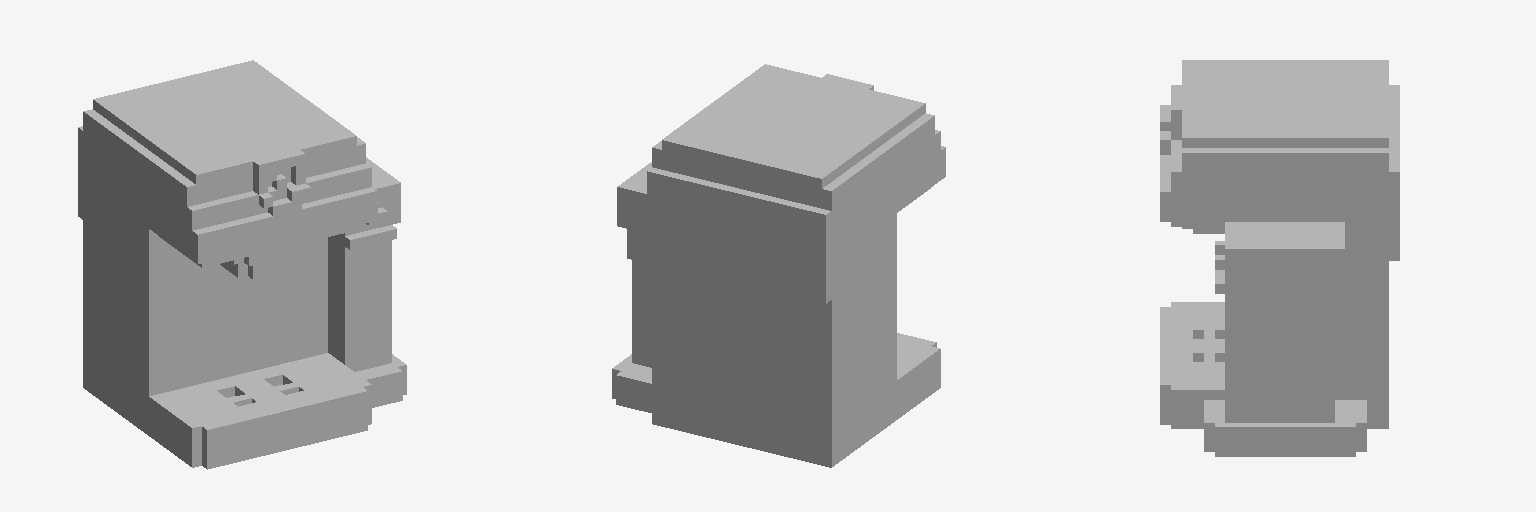
The model's file is coffeeMaker.obj.
The picture shows the model from 3 angles: view 1: azimuth 30°, elevation 25°; view 2: azimuth 150°, elevation 25°; view 3: azimuth 270°, elevation 25°; orthographic projection.
Parts seen in each view (by area): view 1: object 1; view 2: object 1; view 3: object 1.
Boxes of the visible parts, box(x1,y1,x2,y2) form: object 1: box(78, 60, 406, 469); object 1: box(612, 64, 945, 467); object 1: box(1160, 60, 1399, 456).
Bounding box in the file's own units: 2.5 × 2.9 × 2.2.